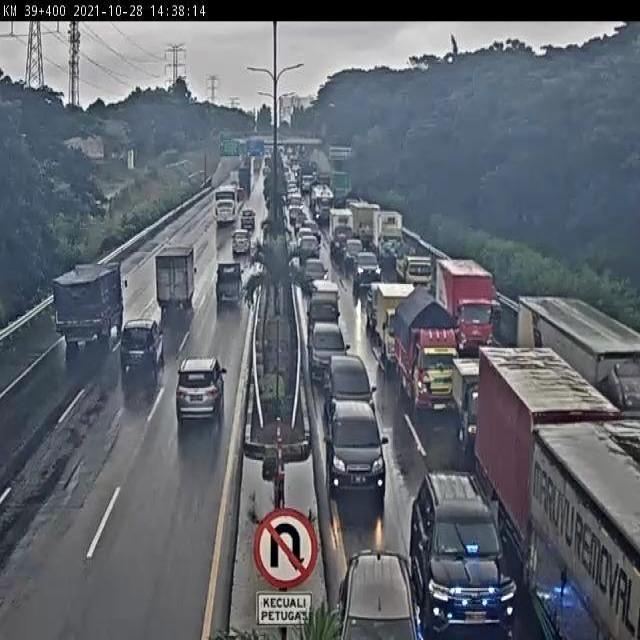ARABA: (414, 457, 519, 639), (322, 393, 392, 515), (342, 548, 422, 640), (170, 345, 232, 435), (319, 347, 382, 421), (114, 306, 167, 386), (305, 316, 353, 385), (366, 281, 392, 332), (353, 251, 385, 289), (226, 231, 255, 260), (238, 204, 260, 232)
KAMYONET: (452, 357, 493, 439), (212, 260, 249, 321)
OTOBUS: (208, 179, 243, 236)
TIR: (474, 344, 609, 529), (538, 418, 640, 640), (513, 291, 640, 421), (47, 252, 124, 356), (437, 254, 498, 362), (397, 295, 456, 404), (154, 234, 204, 314), (376, 283, 423, 365), (397, 254, 439, 298)
